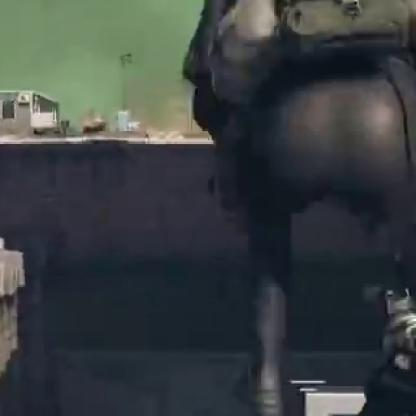enemy: (193, 1, 414, 415)
